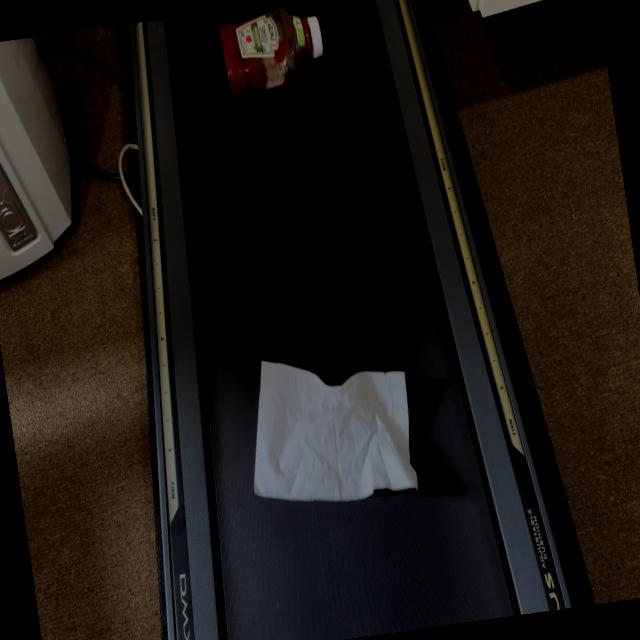Recycle: (228, 338, 428, 526)
Trash: (216, 2, 332, 104)
